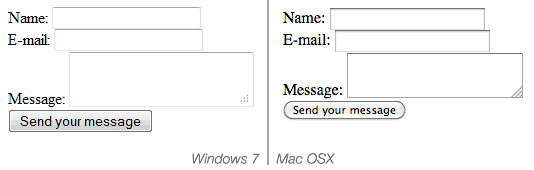_form_: (247, 1, 530, 170), (1, 1, 283, 170)
button: (7, 109, 153, 133), (283, 100, 408, 122)
field: (65, 50, 255, 108), (344, 52, 524, 100), (50, 27, 203, 53), (328, 6, 485, 31), (332, 29, 491, 53), (49, 6, 202, 29)
field_with_label: (5, 48, 257, 109), (282, 51, 525, 101), (282, 4, 487, 32), (280, 29, 493, 54), (8, 28, 205, 54), (9, 4, 203, 28)
